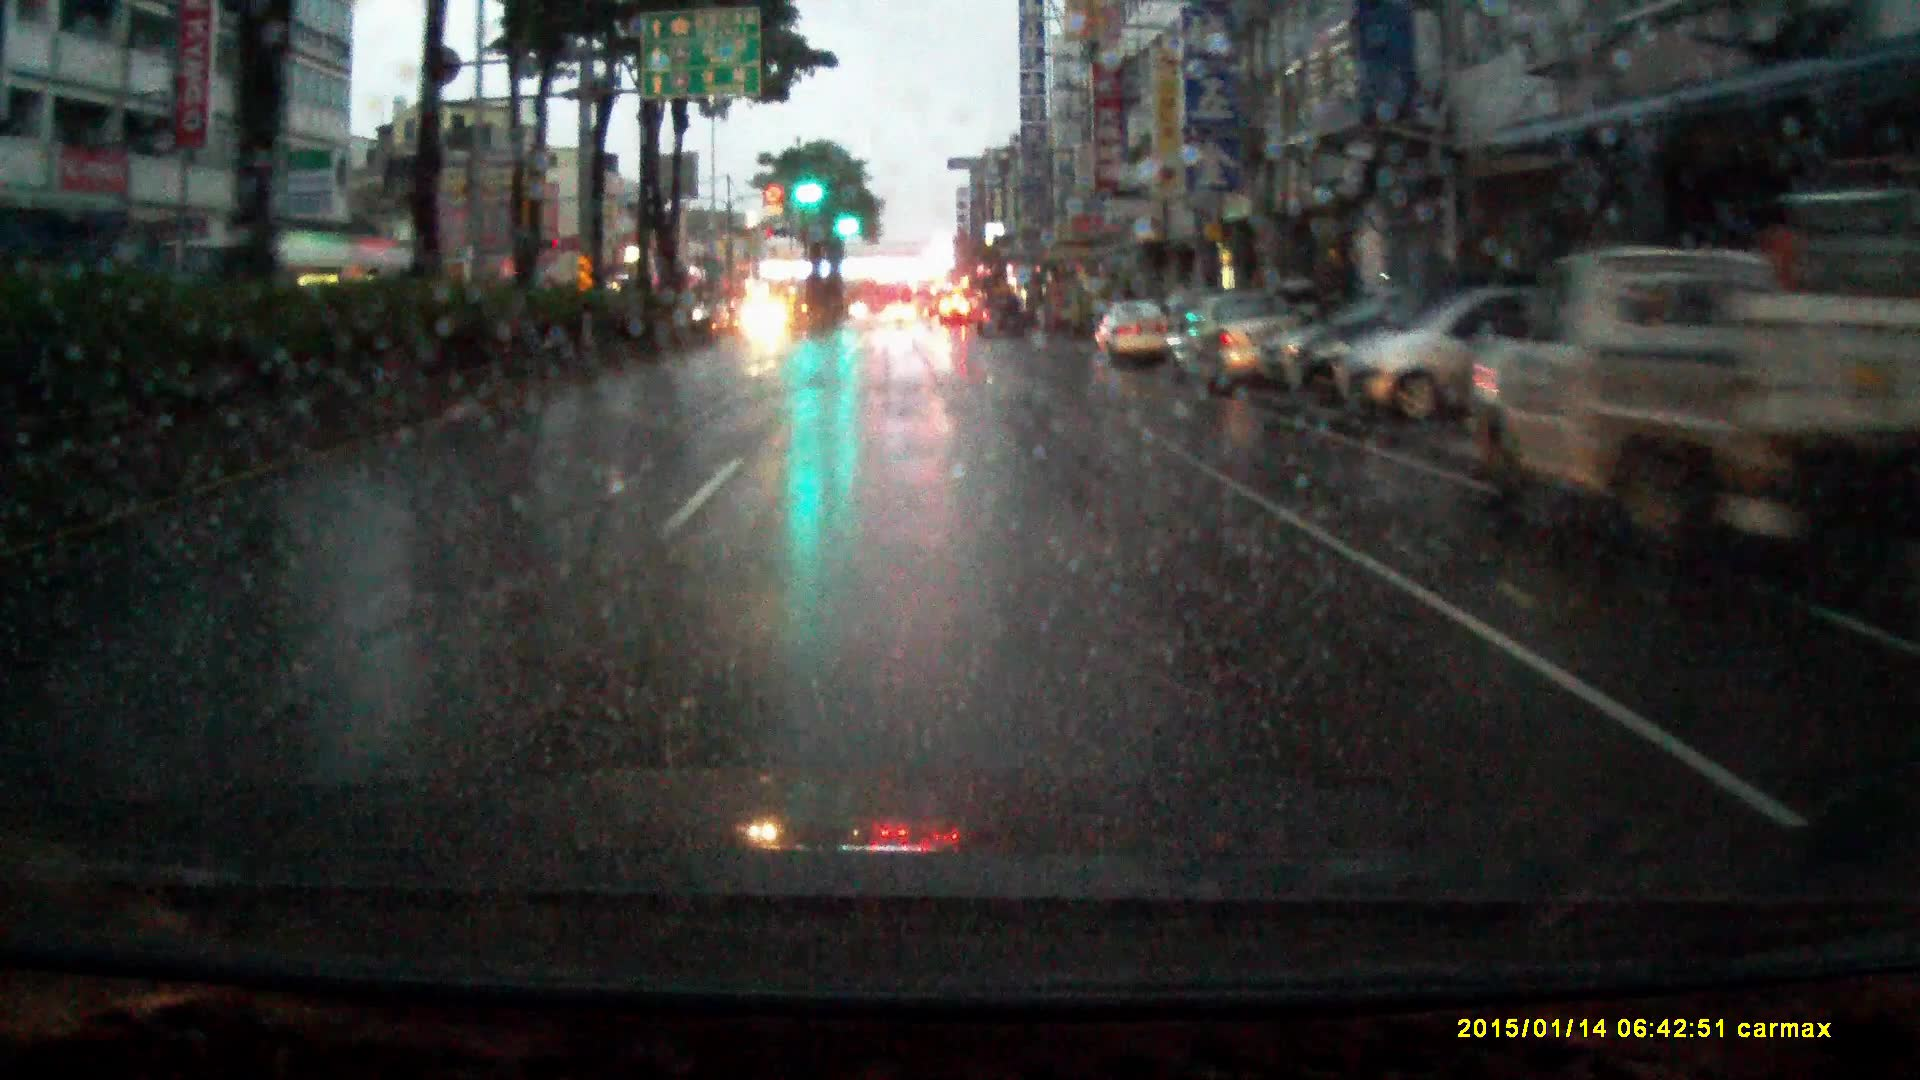vehicle: (1460, 248, 1920, 607), (1336, 287, 1577, 429), (1160, 297, 1321, 410), (1097, 305, 1171, 375), (975, 297, 1029, 342), (740, 301, 793, 345), (939, 301, 973, 332), (914, 284, 940, 319), (886, 305, 916, 324)
